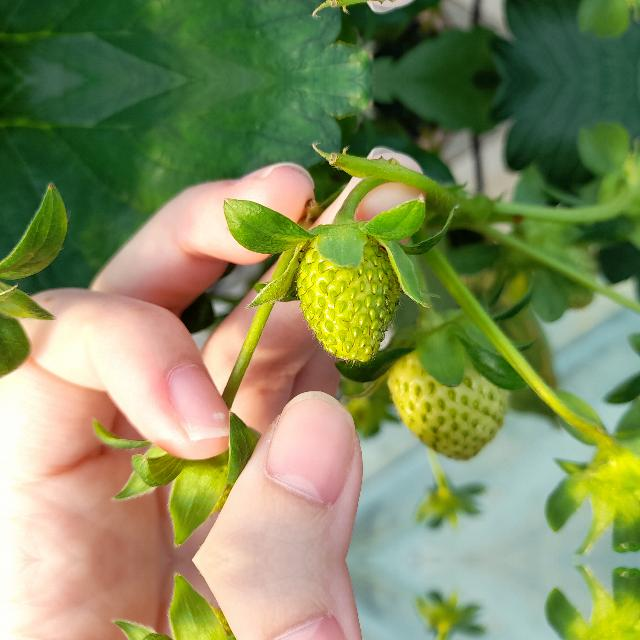Health_25: (386, 339, 514, 468), (294, 233, 404, 367)
